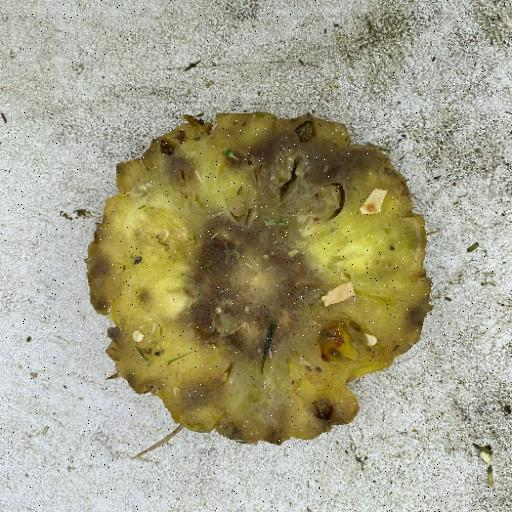Waste: (83, 110, 434, 448)
